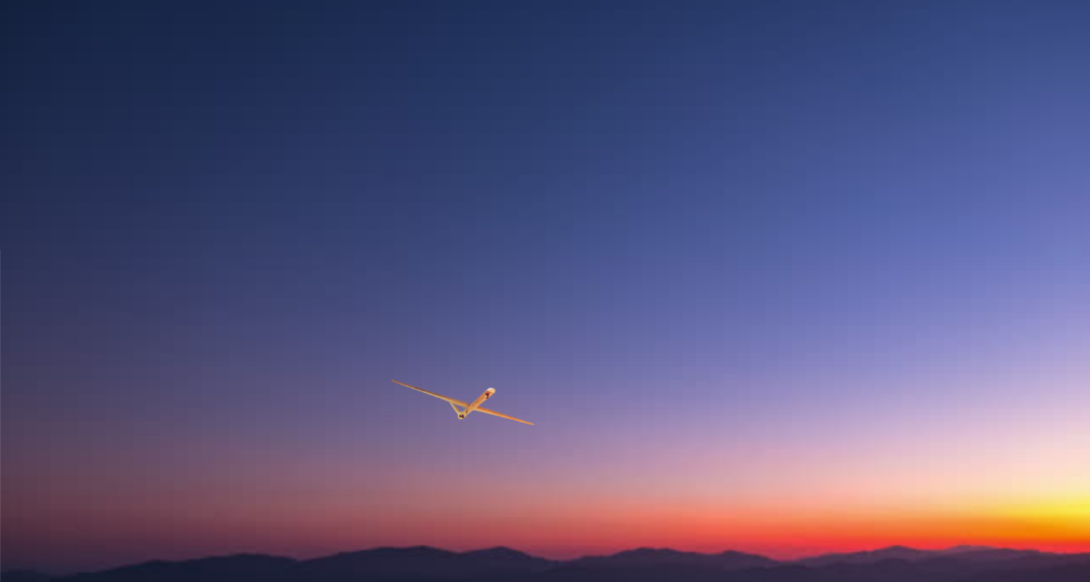military drone: (391, 378, 534, 425)
